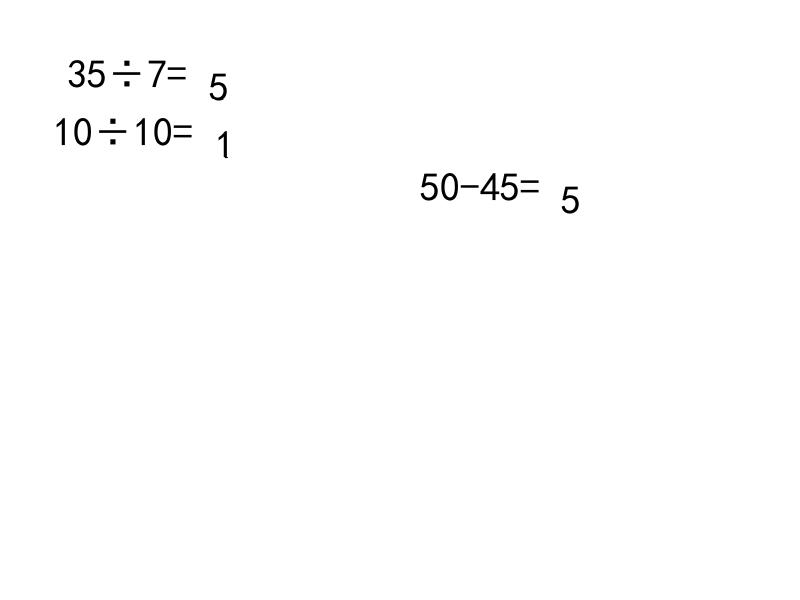-: (460, 166, 480, 195)
0: (73, 111, 93, 140), (153, 111, 173, 140), (440, 166, 460, 195)
1: (53, 111, 73, 140), (133, 111, 153, 140), (203, 111, 223, 140)
3: (67, 53, 87, 82)
4: (480, 166, 500, 195)
5: (87, 53, 107, 82), (197, 53, 217, 82), (420, 166, 440, 195), (500, 166, 520, 195), (550, 166, 570, 195)
7: (147, 53, 167, 82)
=: (167, 53, 187, 82), (173, 111, 193, 140), (520, 166, 540, 195)
÷: (107, 53, 147, 82), (93, 111, 133, 140)
